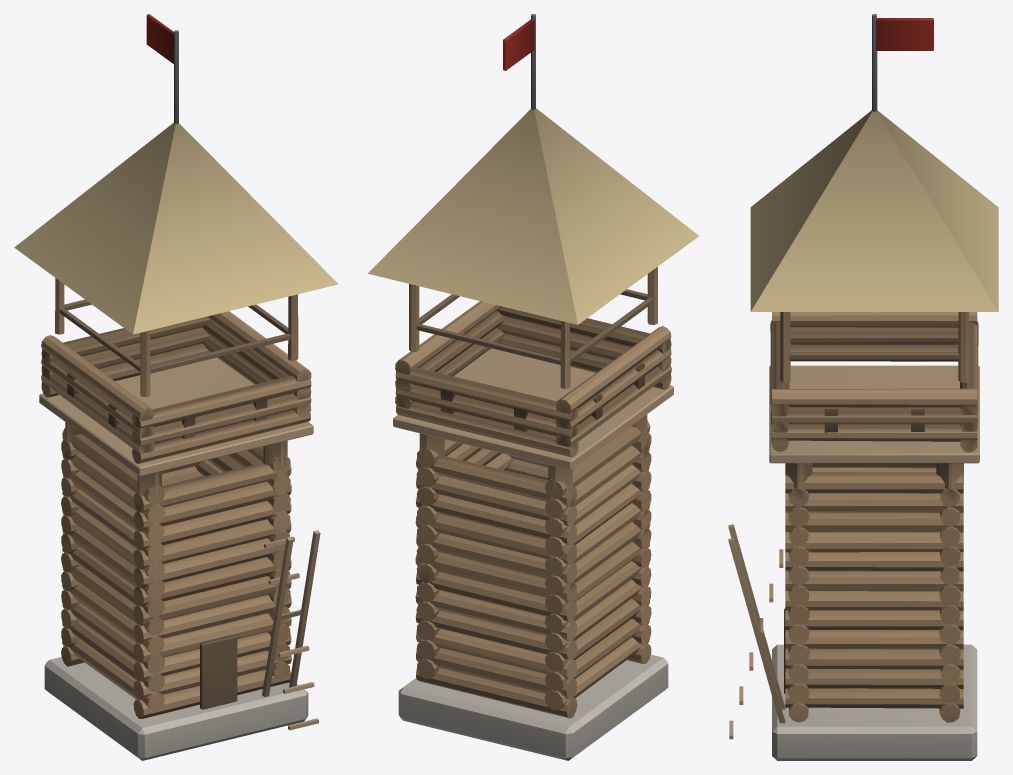
The model's file is bld_tower.glb.
The picture shows the model from 3 angles, left to right: view 1: azimuth 30°, elevation 25°; view 2: azimuth 150°, elevation 25°; view 3: azimuth 270°, elevation 25°; orthographic projection. The views are drawn at different scales.
Visible parts, largest first — view 1: tower; view 2: tower; view 3: tower.
Boxes of the visible parts, bbox=[...] form: tower: bbox=[14, 14, 338, 760]; tower: bbox=[368, 14, 698, 760]; tower: bbox=[728, 14, 998, 760].
Size of the model in its own units: 0.918 by 2.88 by 1.
